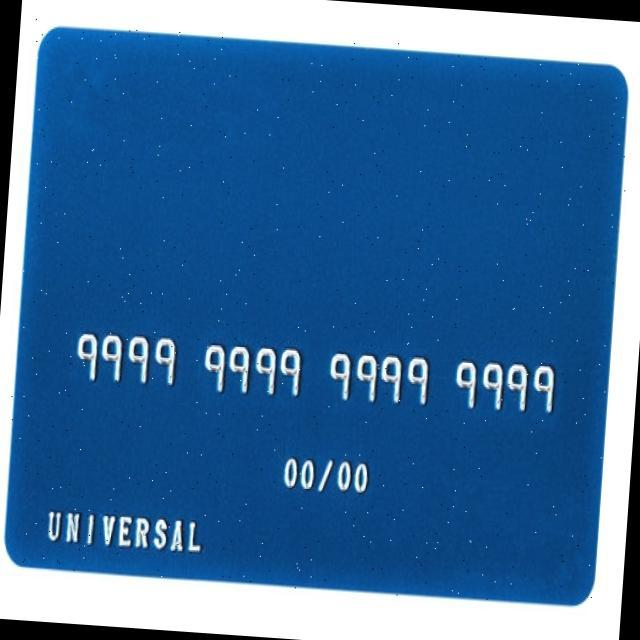payment_card: (2, 26, 630, 605)
